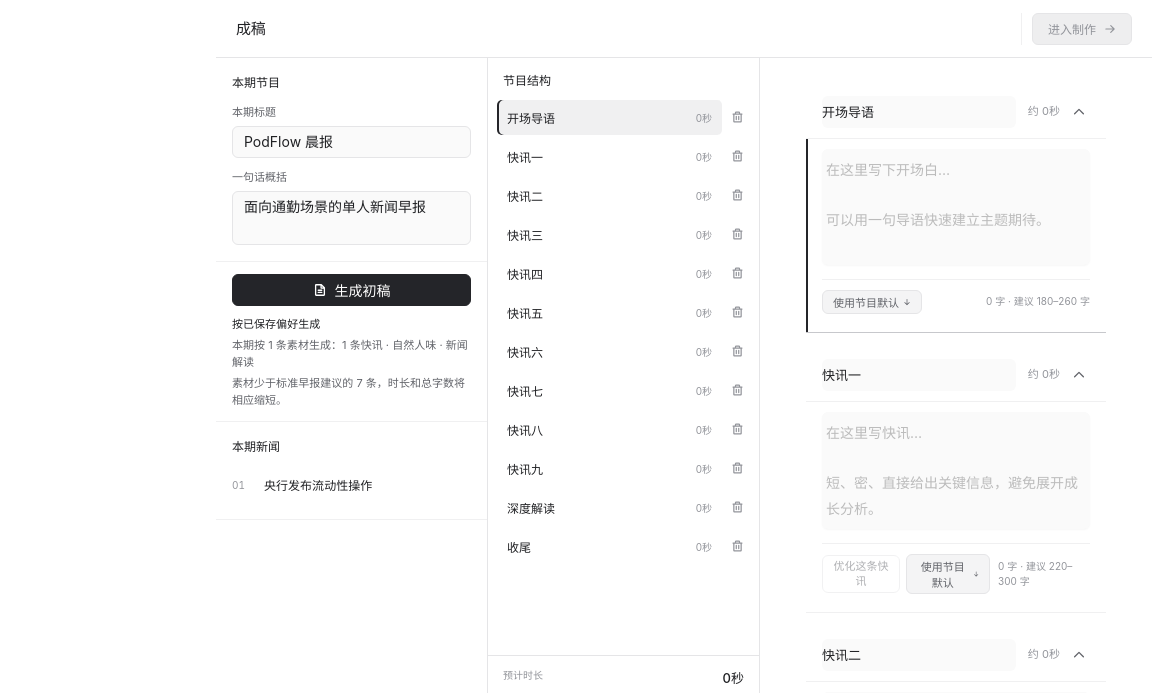
morning-news writing surfaces › keeps an initial-draft failure visible after the toast disappears
Click the button "生成初稿" at (352,290), box [232,274,471,306]
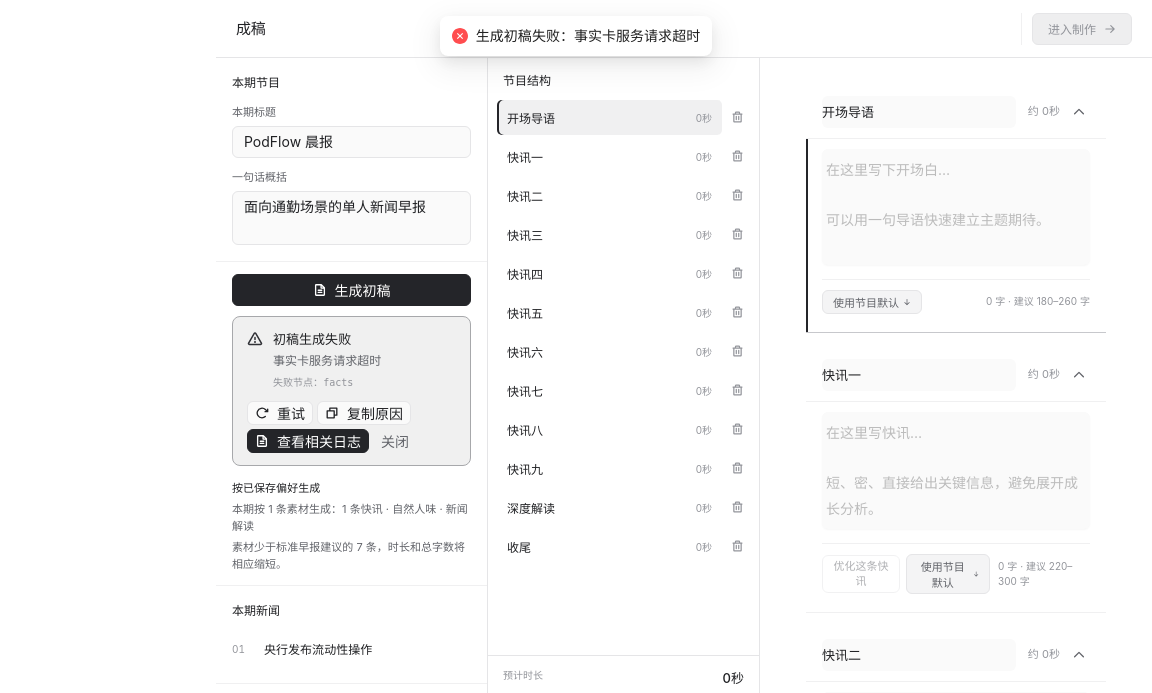
Expected: the message "初稿生成失败 事实卡服务请求超时 失败节点：facts 重试 复制原因 查看相关日志 关闭" is shown, [232,316,471,466]
Expected: the button "重试" is shown, [247,401,313,425]
Expected: the button "查看相关日志" is shown, [247,429,369,453]
